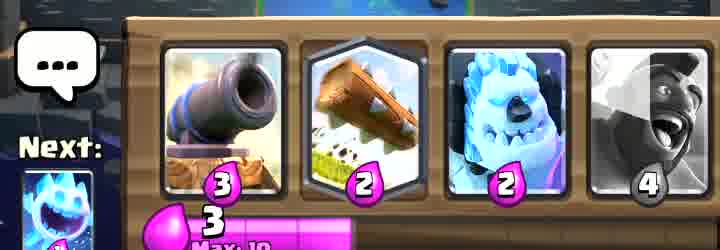cannon: (171, 50, 284, 195)
ice-golem: (447, 52, 561, 198)
ice-spirit: (25, 171, 93, 250)
log: (310, 42, 423, 191)
